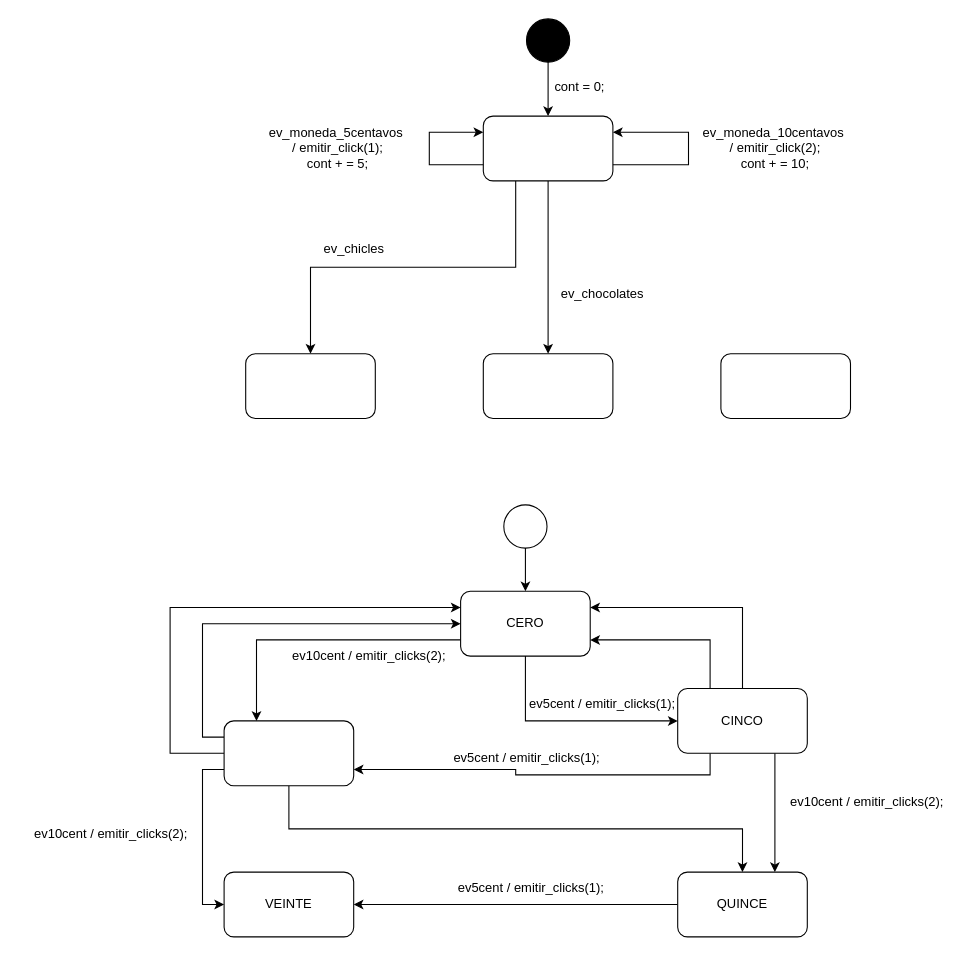
This 976x956 diagram has some shape labels left out. Here are the shapes that lost their labels. From the top down, the centre of each, then its label:
point 547,148: REPOSO
point 288,753: DIEZ
